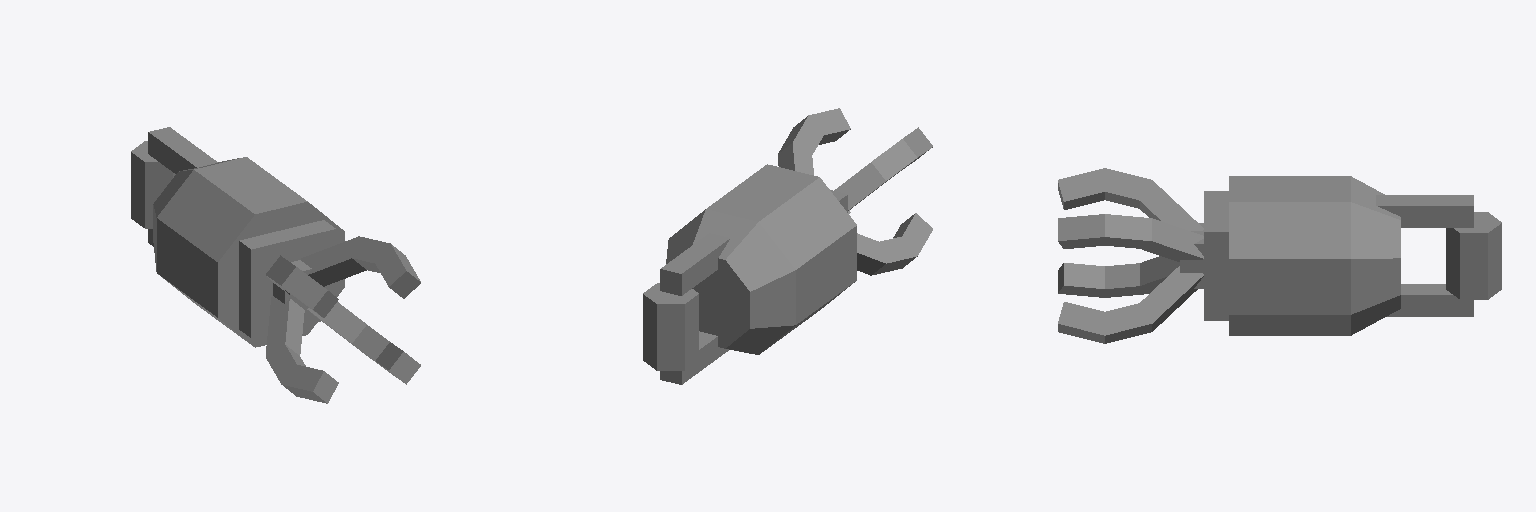
The model's file is grapple.obj.
3 views of the same model, side by side, from view 1: azimuth 30°, elevation 25°; view 2: azimuth 150°, elevation 25°; view 3: azimuth 270°, elevation 25° (orthographic).
Visible parts, largest first — view 1: group_2, Component_20, group_1, group_3, Component_15; view 2: group_2, Component_20, group_3, Component_15; view 3: group_2, Component_20, Component_15, group_3, group_1.
Boxes of the visible parts, <box> form: group_2: <box>153,157,344,347</box>; Component_20: <box>266,236,420,403</box>; group_1: <box>239,220,335,337</box>; group_3: <box>131,141,175,228</box>; Component_15: <box>148,127,217,246</box>; group_2: <box>666,164,856,354</box>; Component_20: <box>778,108,932,275</box>; group_3: <box>643,283,698,370</box>; Component_15: <box>660,233,729,384</box>; group_2: <box>1229,176,1400,335</box>; Component_20: <box>1058,168,1203,343</box>; Component_15: <box>1376,195,1473,316</box>; group_3: <box>1446,212,1501,299</box>; group_1: <box>1204,191,1228,320</box>.
Bounding box in the file's own units: 37.8 × 37.8 × 114.